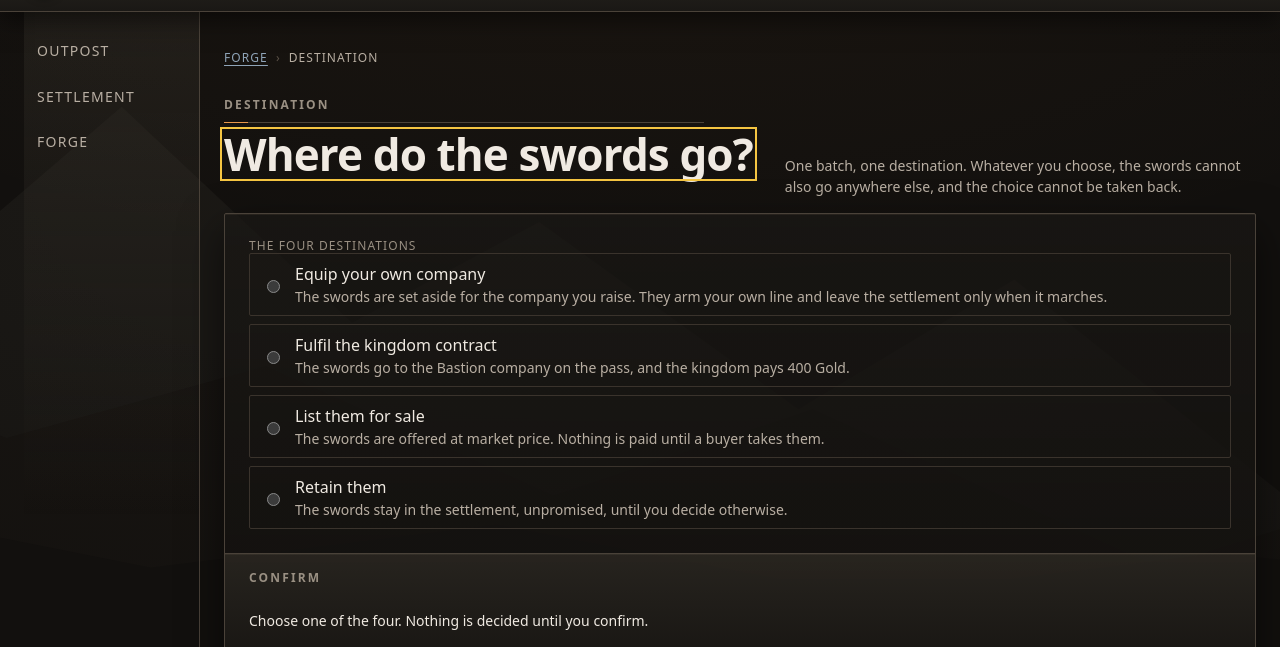
Test: The destination — choosing › offers no confirm until one is selected
Check: the heading "Where do the swords go?" is shown, box [224,130,753,177]
Click the radio button labelled "Retain them": x=274, y=499 [267,493,280,506]
(page scrolled)
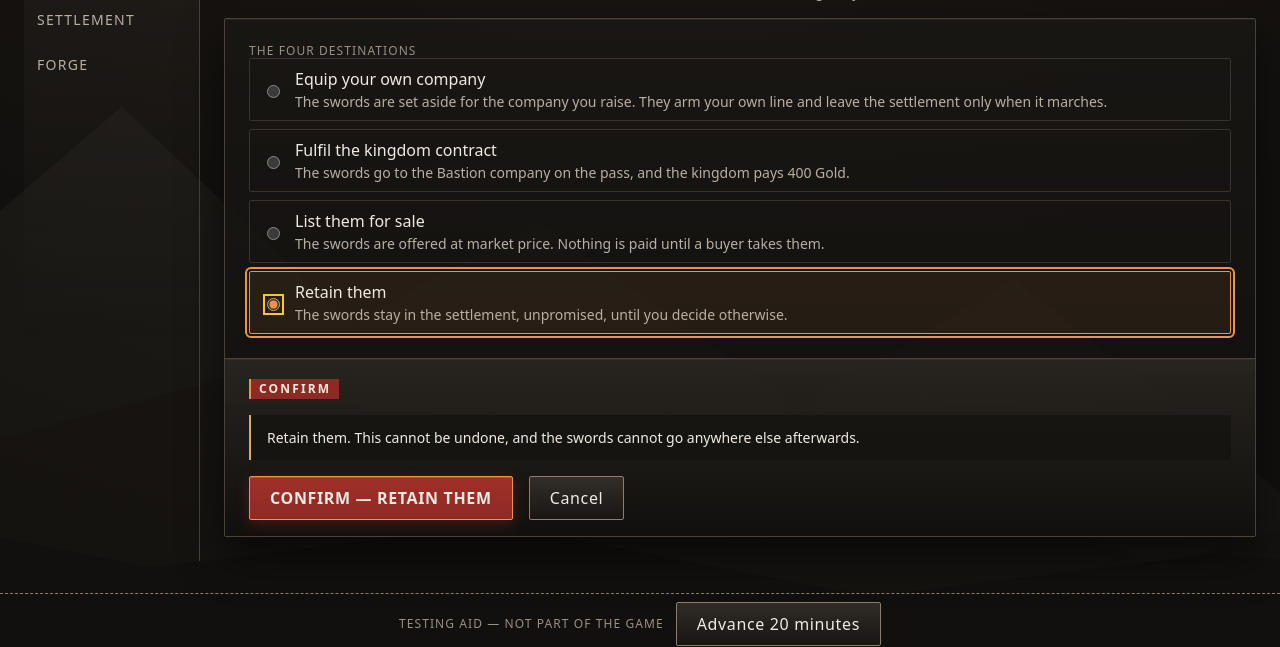
Check: the button "Confirm — Retain them" is enabled, box [249,476,513,520]
Check: the text "This cannot be undone" is shown, box [347,428,860,447]
